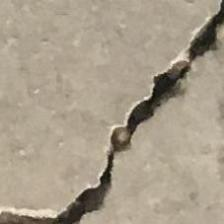Crack: (55, 8, 224, 223)
